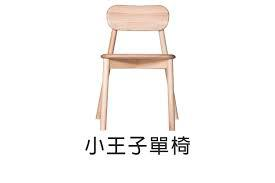chair: (91, 2, 184, 133)
